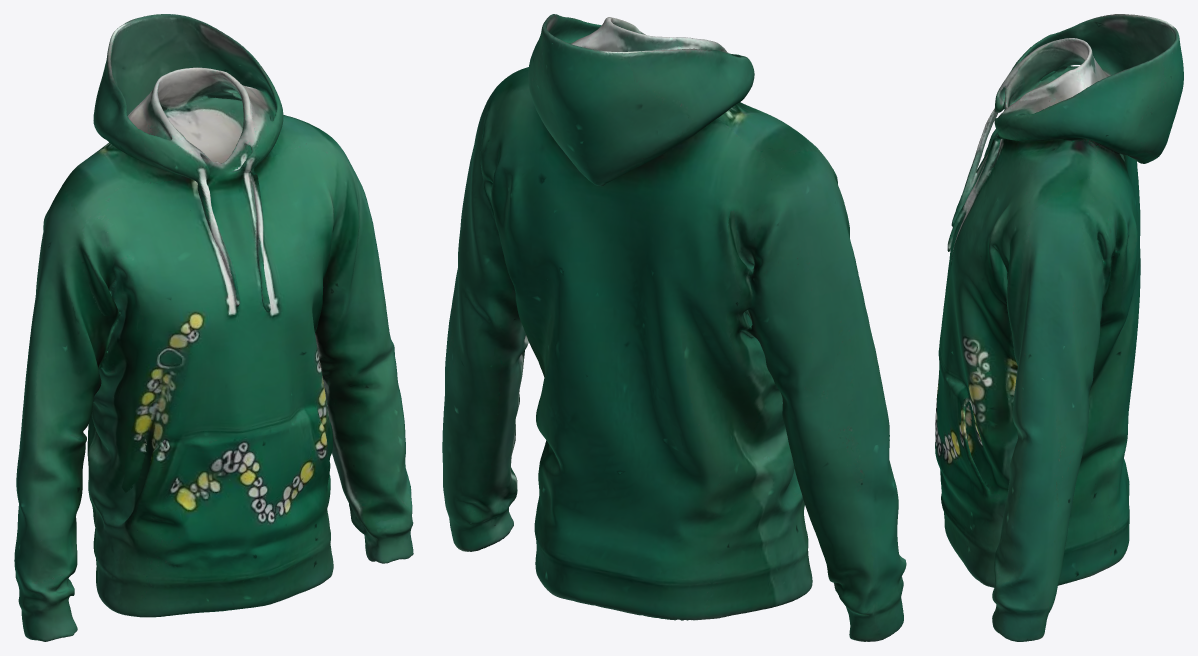
The model's file is bejroska-hoodie.glb.
3 renders of one model, left to right at view 1: azimuth 30°, elevation 25°; view 2: azimuth 150°, elevation 25°; view 3: azimuth 270°, elevation 25°, orthographic. The views are drawn at different scales.
Size of the model in its own units: 1.55 by 2 by 0.8697.
1 material, 1 textured.
